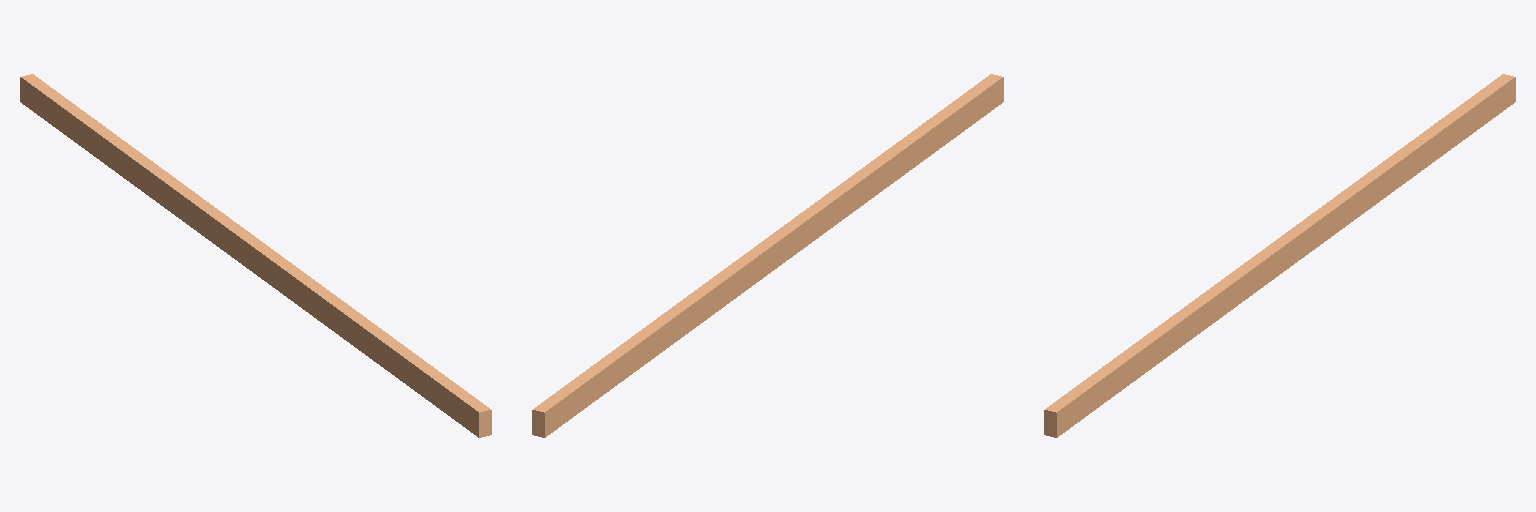
The robot description file, URDF, robot "wall.urdf":
<?xml version="1.0" ?>
<robot name="wall.urdf">
  <link name="wall">
    <contact>
      <lateral_friction value="1.0"/>
      <rolling_friction value="0.0"/>
      <contact_cfm value="0.0"/>
      <contact_erp value="1.0"/>
    </contact>
    <inertial>
      <origin rpy="0 0 0" xyz="0.0 0.0 0.0"/>
       <mass value="1"/>
      <inertia ixx="0.0833" ixy="0.0" ixz="0.0" iyy="0" iyz="0.0" izz="0"/>
    </inertial>
    <visual>
      <origin rpy="0 0 0" xyz="0 0 0"/>
      <geometry>
        <box size=".5 32.5 1"/>
      </geometry>
       <material name="beige">
        <color rgba="1 0.77647058823 0.6 1"/>
      </material>
    </visual>
    <collision>
      <origin xyz="0 0 0"/>
      <geometry>
        <box size=".5 32.5 1"/>
      </geometry>
    </collision>
  </link>
</robot>

--- Facts derived from the render (not from the file) ---
Views: 3 orthographic renders of the robot side by side, from view 1: azimuth 30°, elevation 25°; view 2: azimuth 150°, elevation 25°; view 3: azimuth 330°, elevation 25°.
Robot: wall.urdf — 1 links, 0 joints (none); root link wall; default pose: every joint at zero.
Links seen in each view (by area): view 1: wall; view 2: wall; view 3: wall.
Boxes of the visible links, bbox=[...] form: wall: bbox=[20, 74, 491, 437]; wall: bbox=[532, 74, 1003, 437]; wall: bbox=[1044, 74, 1515, 437].
Size in the robot's own frame: 0.5 by 32.5 by 1 metres.
Geometry: primitives only (box / cylinder / sphere), no mesh files.